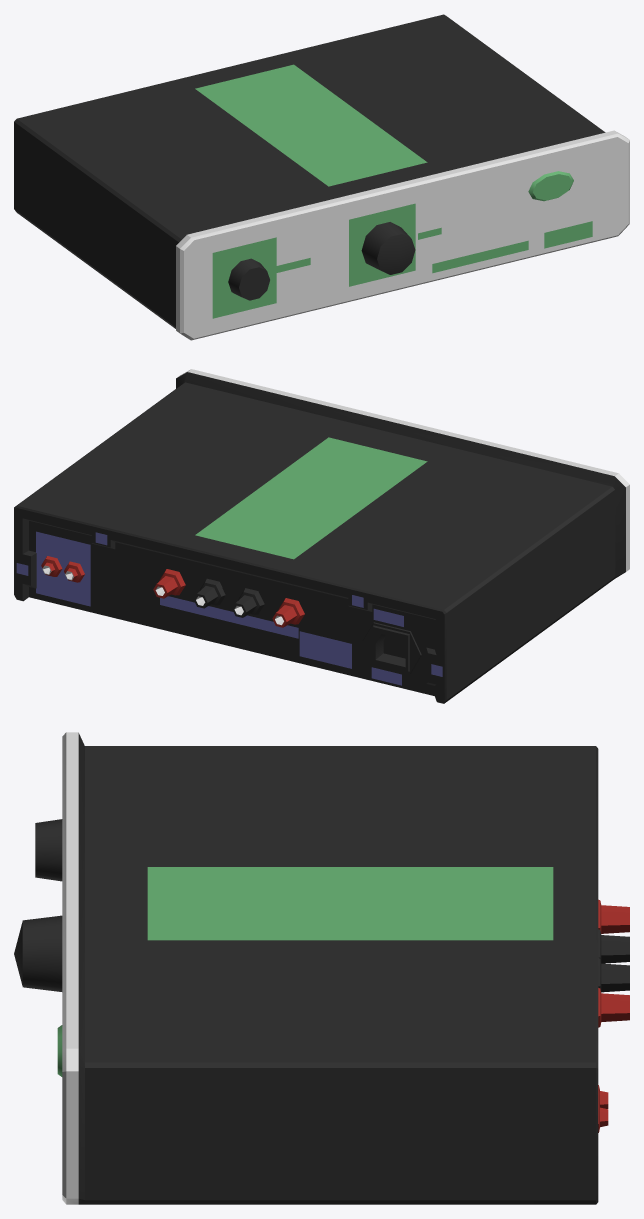
The picture shows the model from 3 angles, top to bottom: view 1: azimuth 30°, elevation 25°; view 2: azimuth 150°, elevation 25°; view 3: azimuth 270°, elevation 25°; orthographic projection. The views are drawn at different scales.
Visible parts, largest first — view 1: UN01; view 2: UN01; view 3: UN01.
Part boxes in pixels (x1,y1,x2,y2): UN01: (14, 14, 629, 340); UN01: (14, 369, 629, 703); UN01: (14, 732, 629, 1204).
Bounding box in the file's own units: 1105 × 241 × 864.
